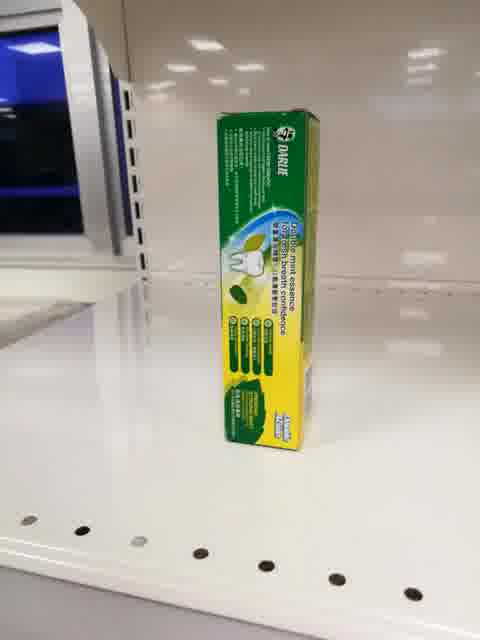toothpaste: (216, 110, 319, 454)
